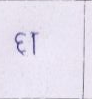aa_matra: (31, 34, 35, 54)
